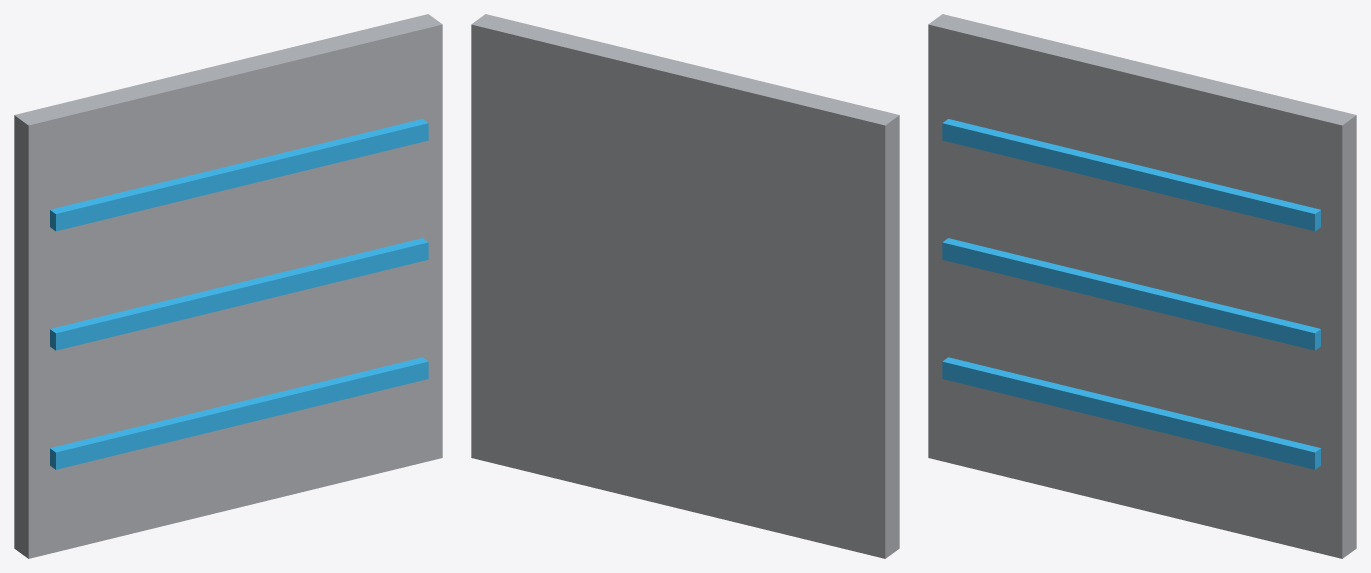
File: electrified_floor_tile.glb
3 views of the same model, side by side, from view 1: azimuth 30°, elevation 25°; view 2: azimuth 150°, elevation 25°; view 3: azimuth 330°, elevation 25° (orthographic).
Visible parts, largest first — view 1: tile, stripe1, stripe2, stripe3; view 2: tile; view 3: tile, stripe1, stripe2, stripe3.
Boxes of the visible parts, box(x1,y1,x2,y2) form: tile: box(14, 14, 442, 558); stripe1: box(50, 357, 428, 469); stripe2: box(50, 238, 428, 350); stripe3: box(50, 119, 428, 231); tile: box(471, 14, 899, 558); tile: box(928, 14, 1356, 558); stripe1: box(942, 357, 1320, 469); stripe2: box(942, 238, 1320, 350); stripe3: box(942, 119, 1320, 231).
Bounding box in the file's own units: 2 × 2 × 0.175.
